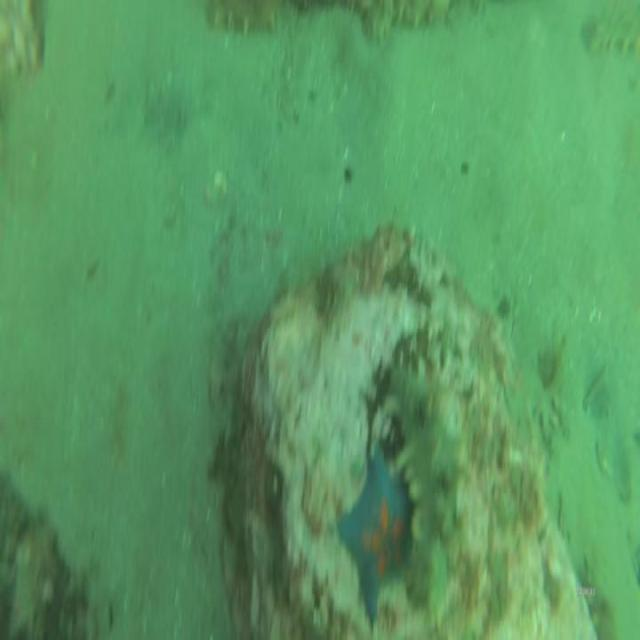holothurian: (381, 357, 463, 616)
starfish: (339, 433, 415, 624)
